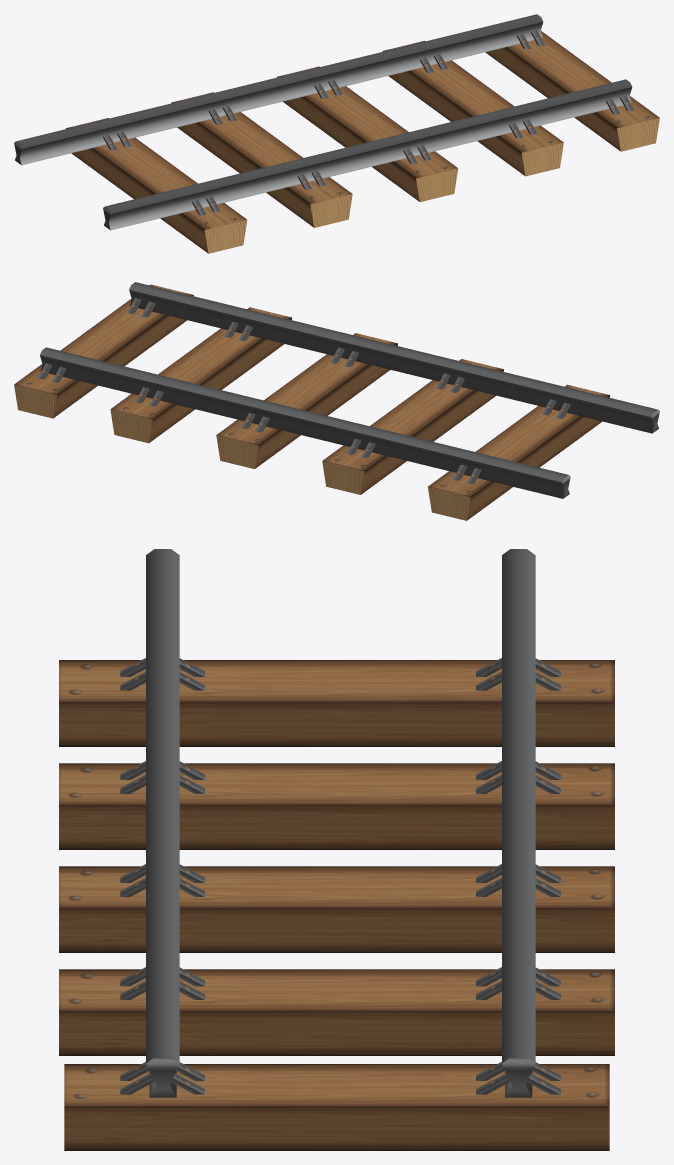
Rendered from Rail_01.FBX.
3 renders of one model, top to bottom at view 1: azimuth 30°, elevation 25°; view 2: azimuth 150°, elevation 25°; view 3: azimuth 270°, elevation 25°, orthographic. The views are drawn at different scales.
Visible parts, largest first — view 1: Rail_01; view 2: Rail_01; view 3: Rail_01.
Boxes of the visible parts, box(x1,y1,x2,y2) form: Rail_01: box(14, 14, 659, 253); Rail_01: box(14, 282, 659, 520); Rail_01: box(59, 549, 614, 1150).
Size of the model in its own units: 5.38 by 0.4402 by 2.45.
